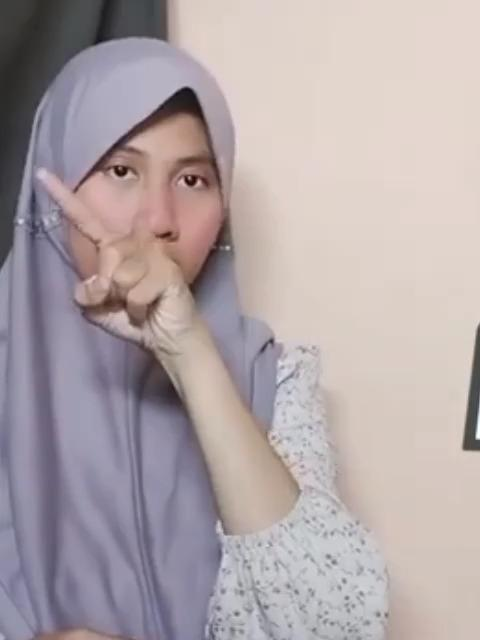Z: (32, 158, 206, 360)
